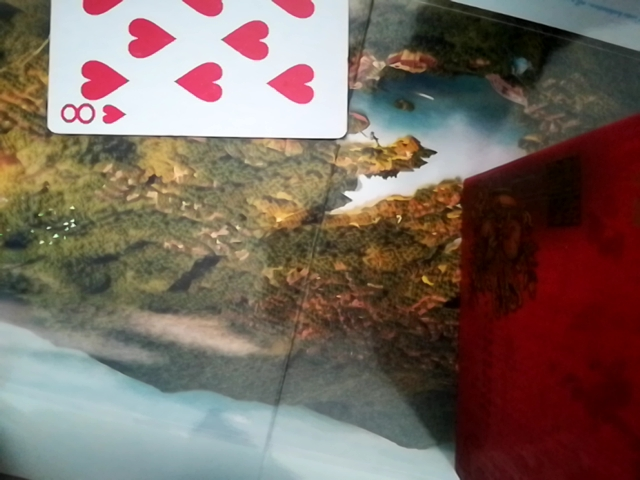hx 8: (37, 0, 351, 140)
